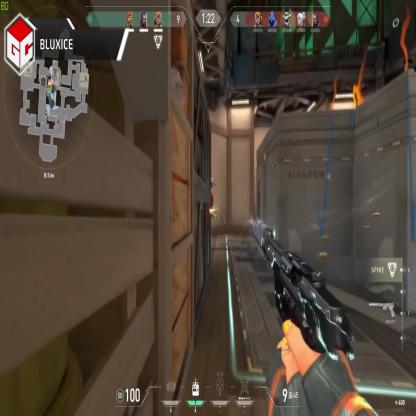enemy: (205, 171, 217, 216)
enemy_head: (207, 171, 212, 179)
